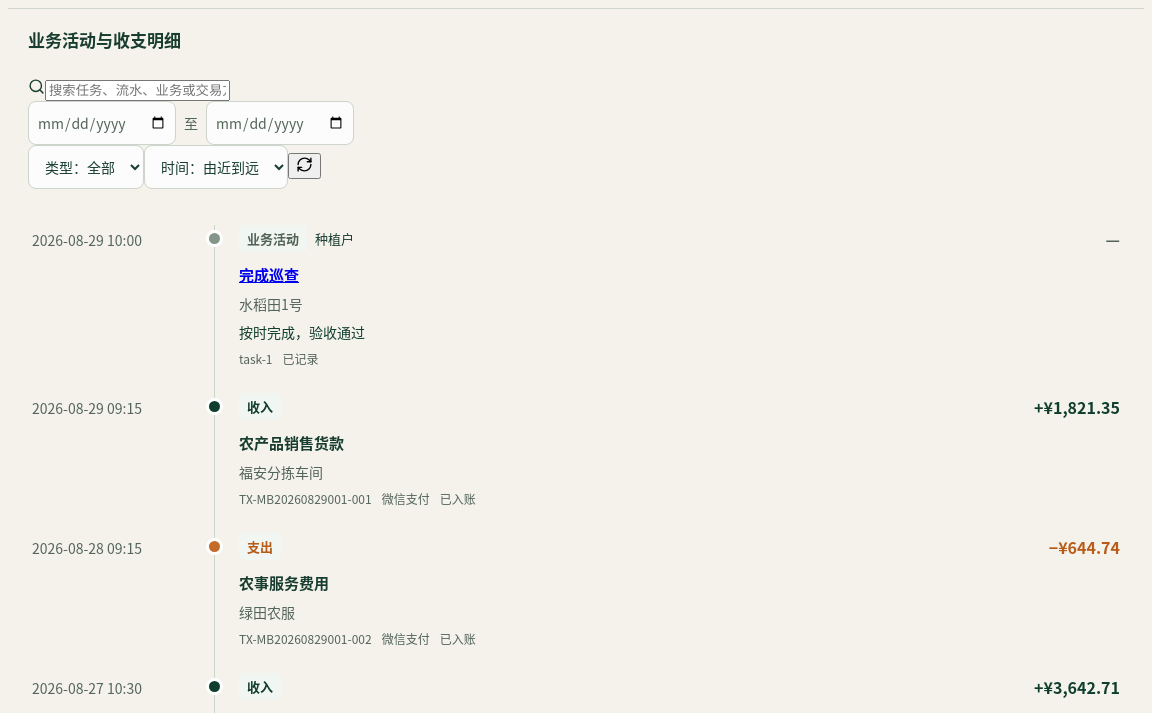
Scenario: 会员收支列表交互 › 业务活动只出现一次，保留任务链接与结果，不编造收支金额
This screenshot has width=1152, height=713.
Expected: the number of links "完成巡查" is 1, [239, 264, 299, 285]
Select "业务活动" in the dropdown named "记录类型": (86, 167) [28, 145, 144, 189]
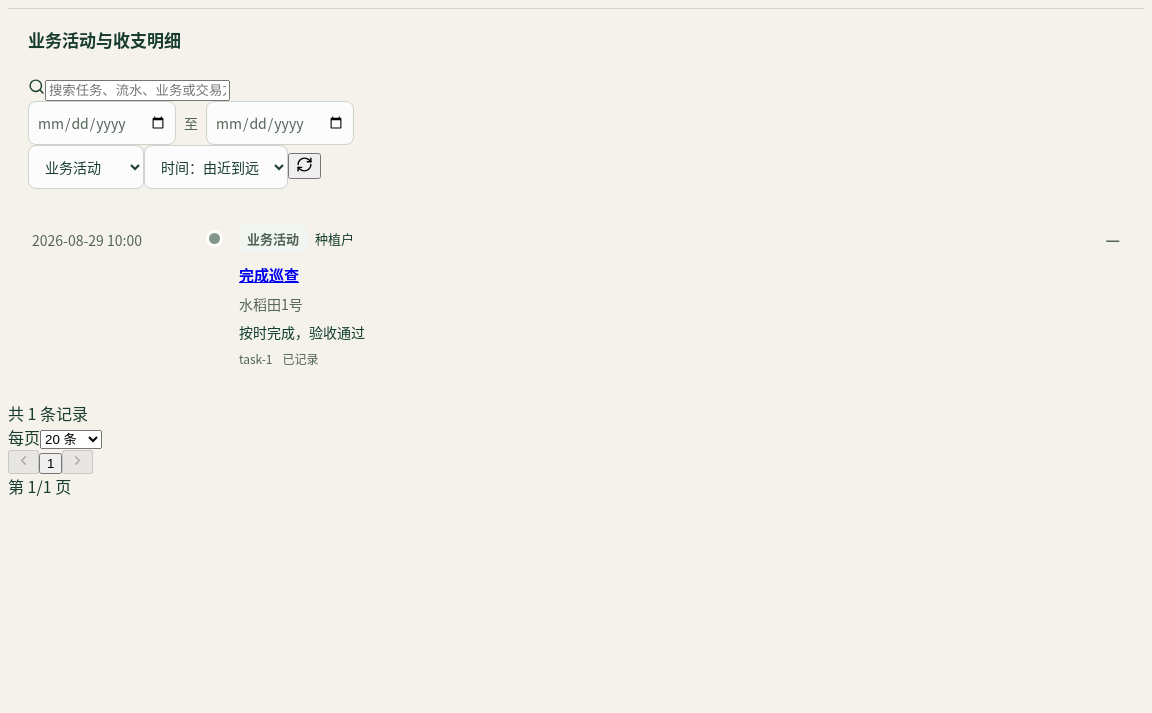
Expected: the text with class "finance-amount" reads "—", [1106, 226, 1120, 250]
Now the number of list items is 1, box [32, 225, 1120, 393]
